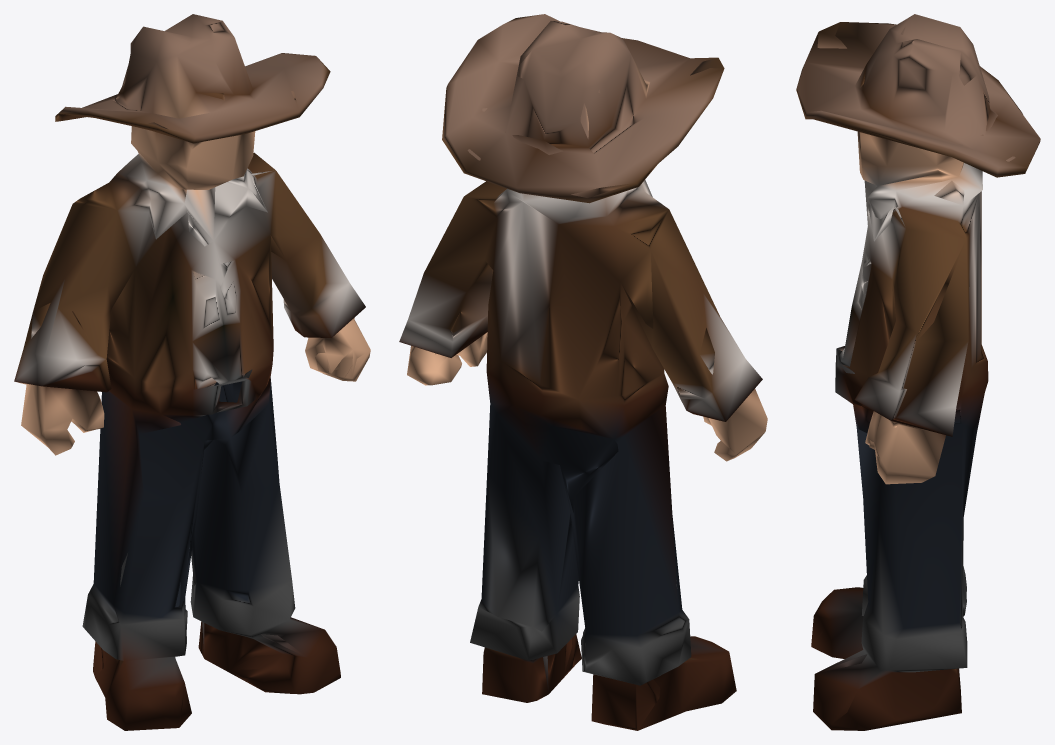
Rendered from gen3d-cowboy-lod1.glb.
The picture shows the model from 3 angles, left to right: view 1: azimuth 30°, elevation 25°; view 2: azimuth 150°, elevation 25°; view 3: azimuth 270°, elevation 25°; orthographic projection. The views are drawn at different scales.
Parts seen in each view (by area): view 1: part_0; view 2: part_0; view 3: part_0.
Boxes of the visible parts, x1,y1,x2,y2 form: part_0: (14,14,370,730); part_0: (399,14,767,730); part_0: (796,14,1040,730).
Size of the model in its own units: 0.53 by 0.9997 by 0.3404.
